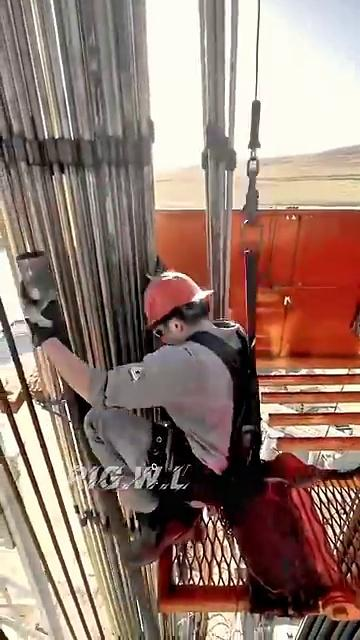gloves: (3, 290, 65, 363)
helmet: (132, 242, 222, 317)
shoes: (105, 455, 213, 568)
worker: (15, 233, 288, 578)
